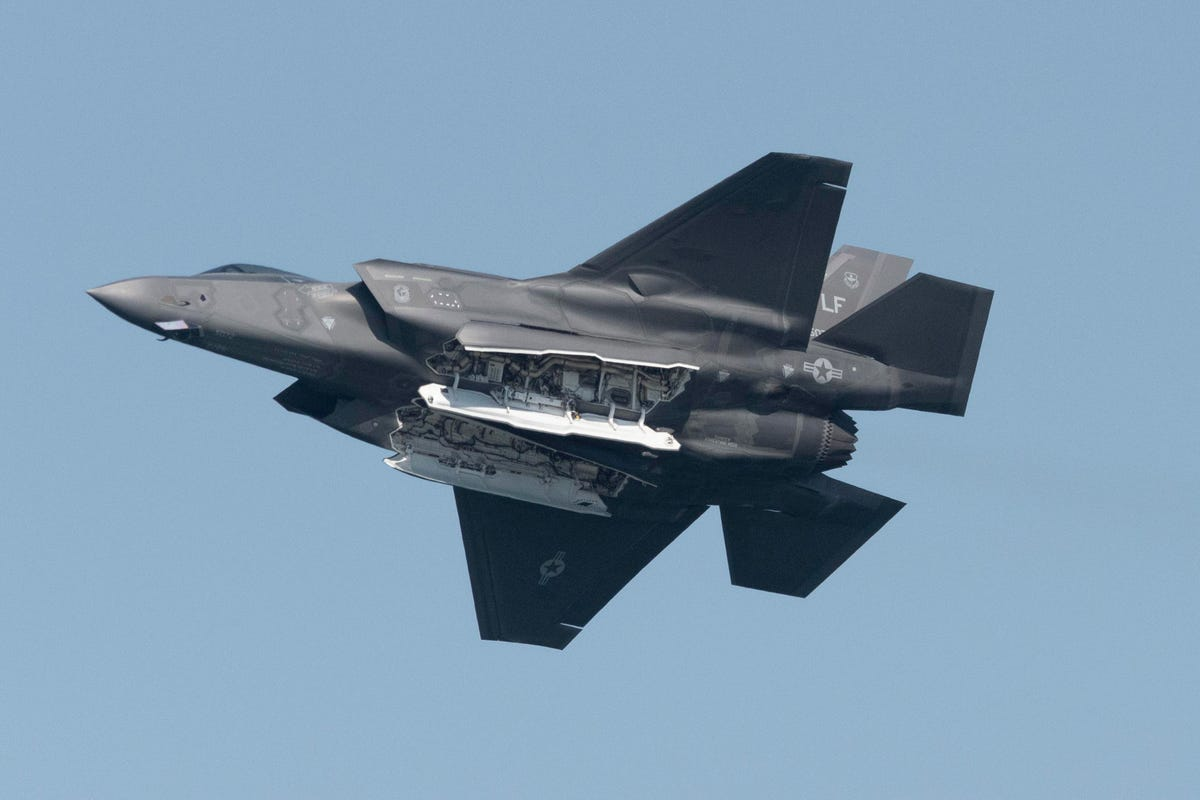F35: (81, 149, 1000, 654)
